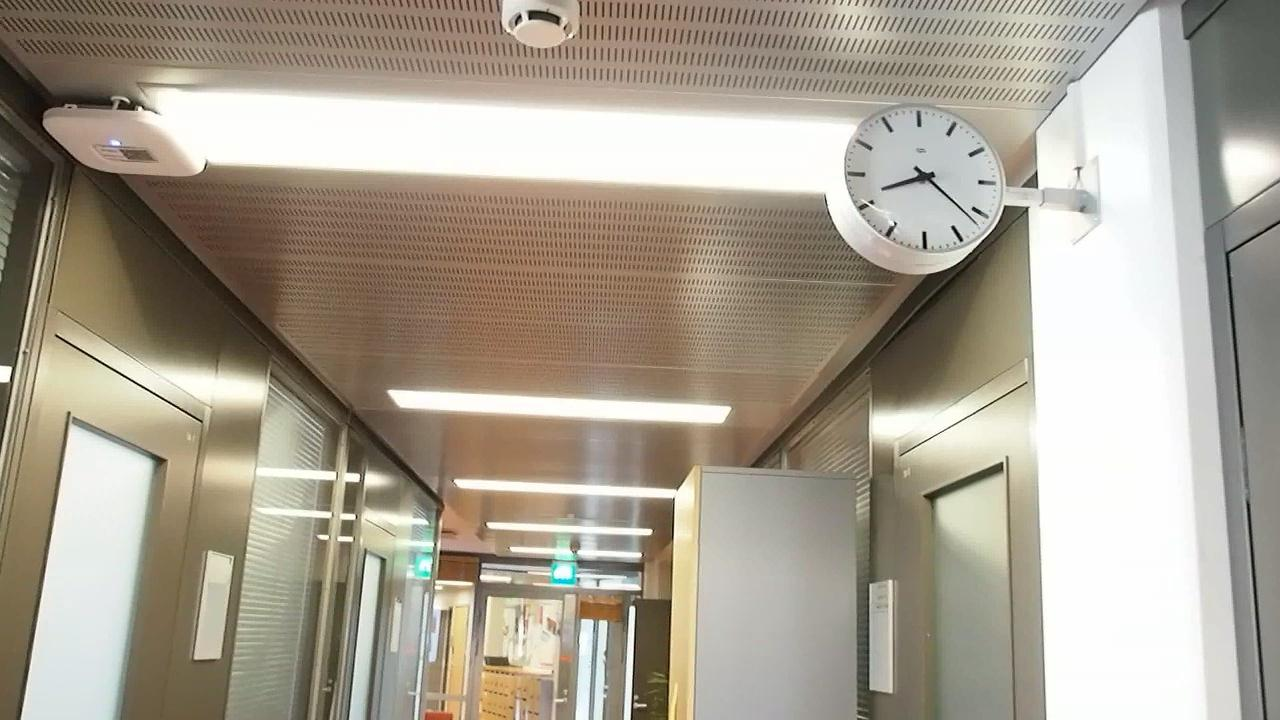clock: (829, 95, 1015, 270)
